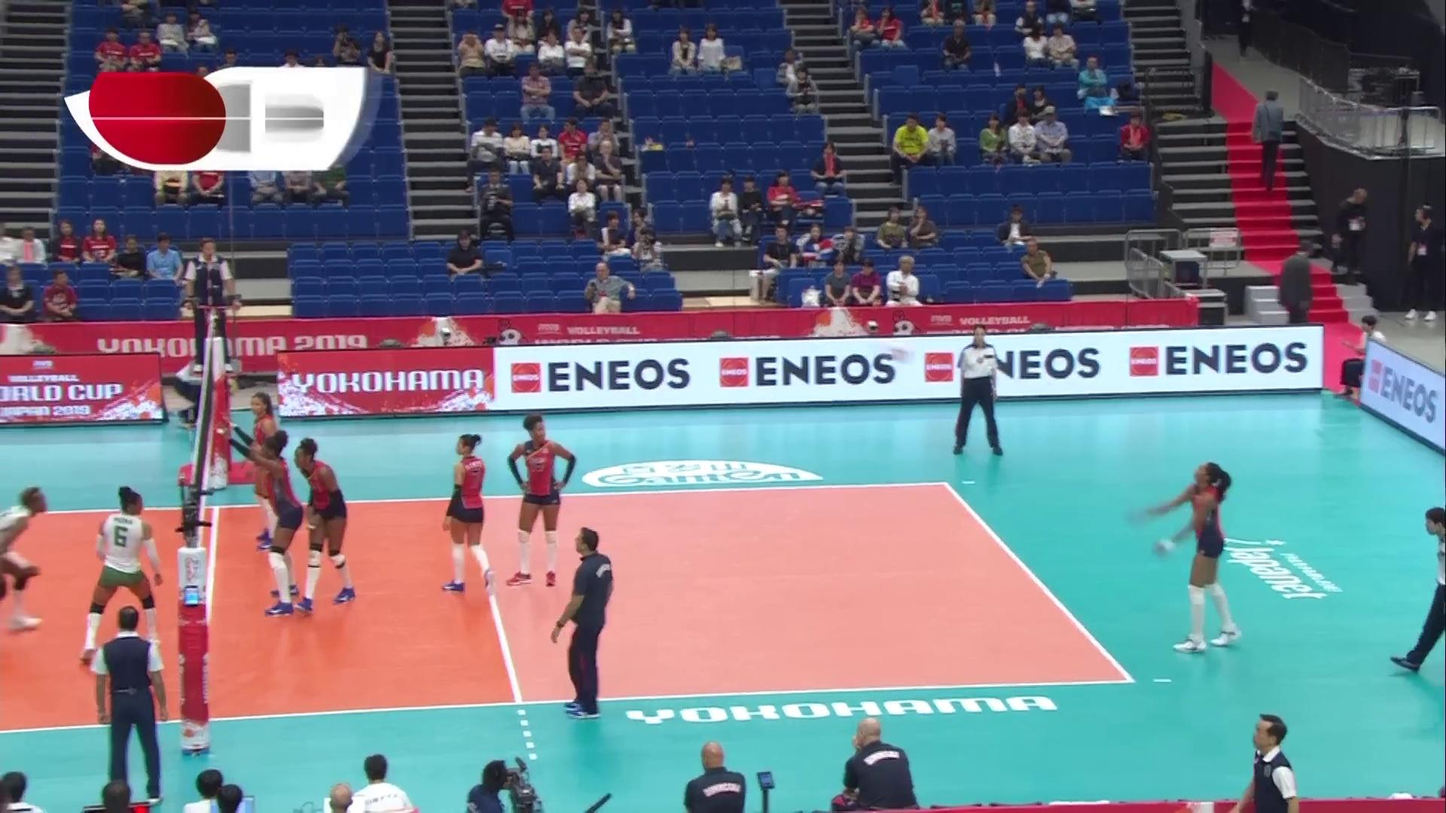player: (1148, 462, 1241, 649), (77, 486, 162, 664), (236, 429, 299, 614), (510, 414, 574, 582), (293, 439, 354, 613), (437, 433, 495, 592), (0, 489, 49, 632), (244, 393, 281, 552)
refree: (95, 606, 166, 802), (1394, 507, 1446, 675), (956, 324, 1004, 456), (185, 240, 233, 370)
